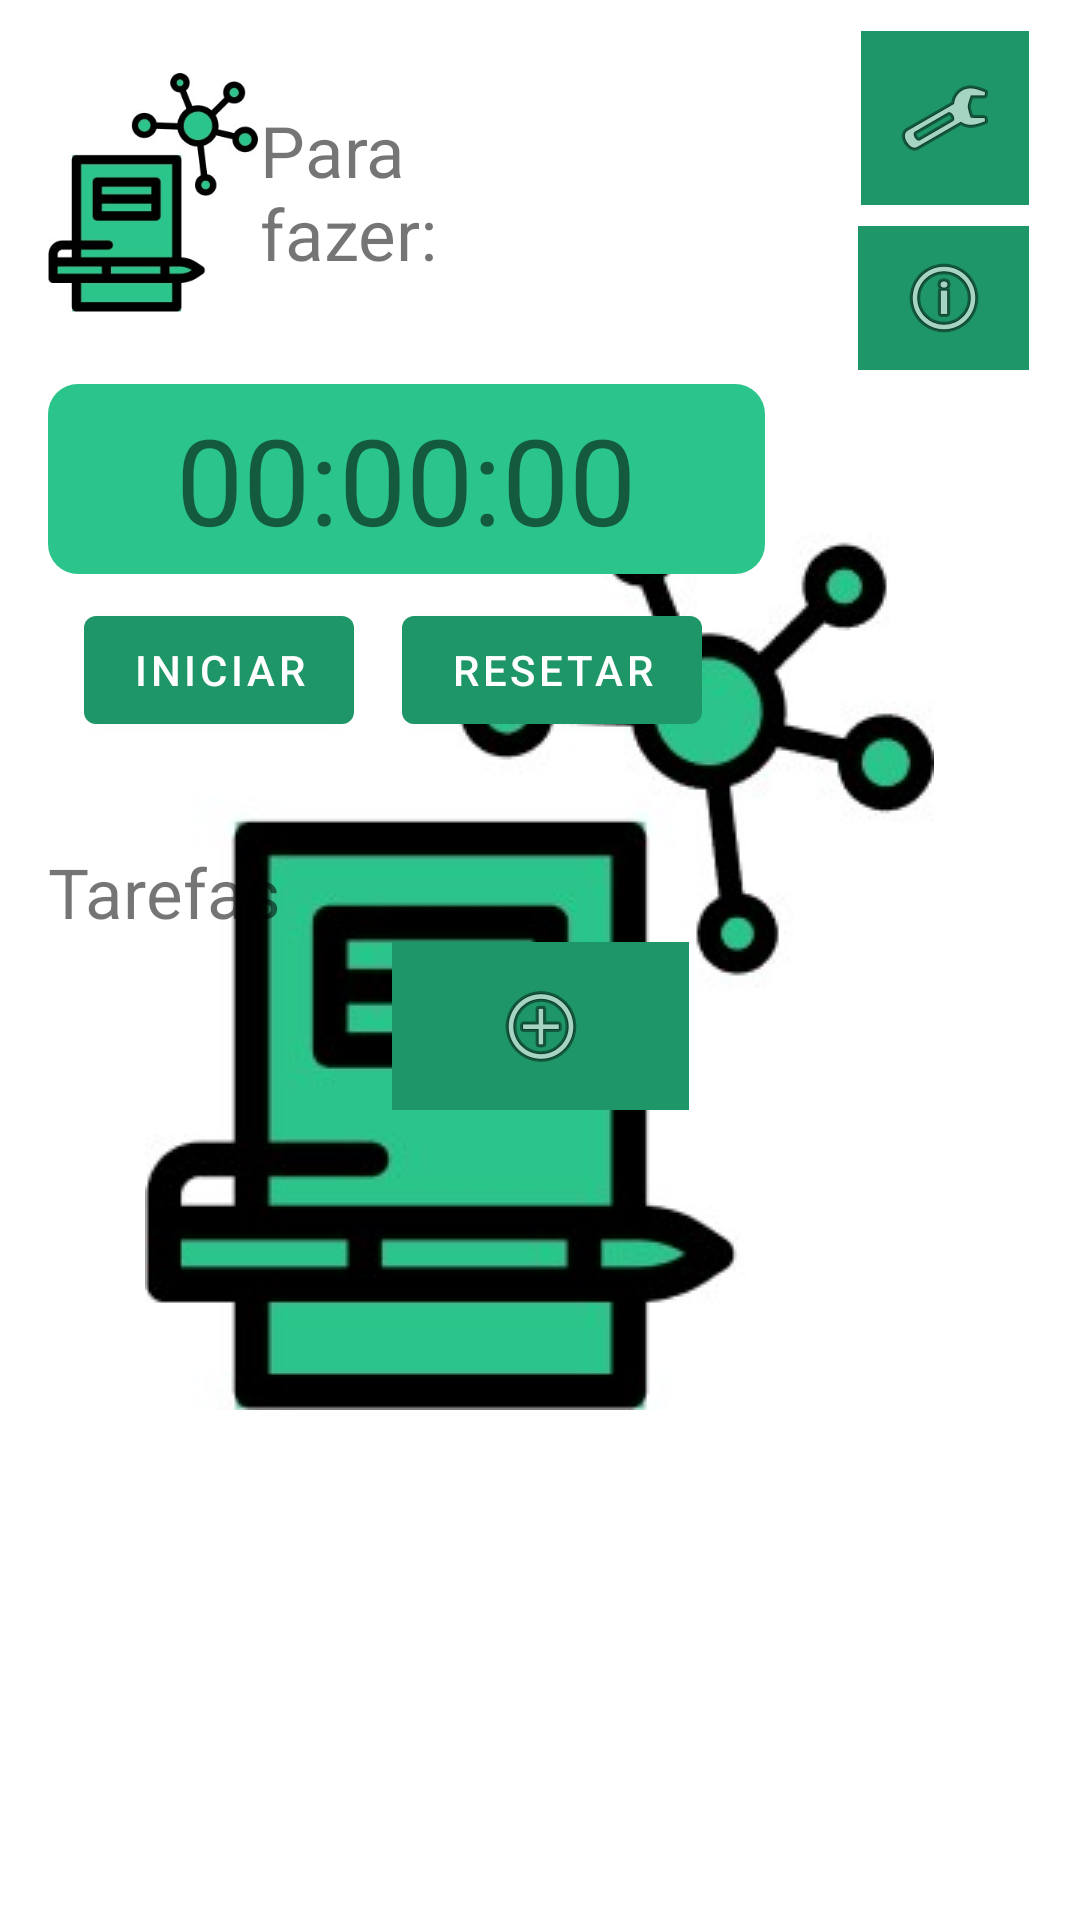

Screen size 1080px×1920px. Icon name, then its center in pixels as (x=x, y=y):
add: (x=540, y=1026)
info details: (x=943, y=298)
manage: (x=945, y=118)
